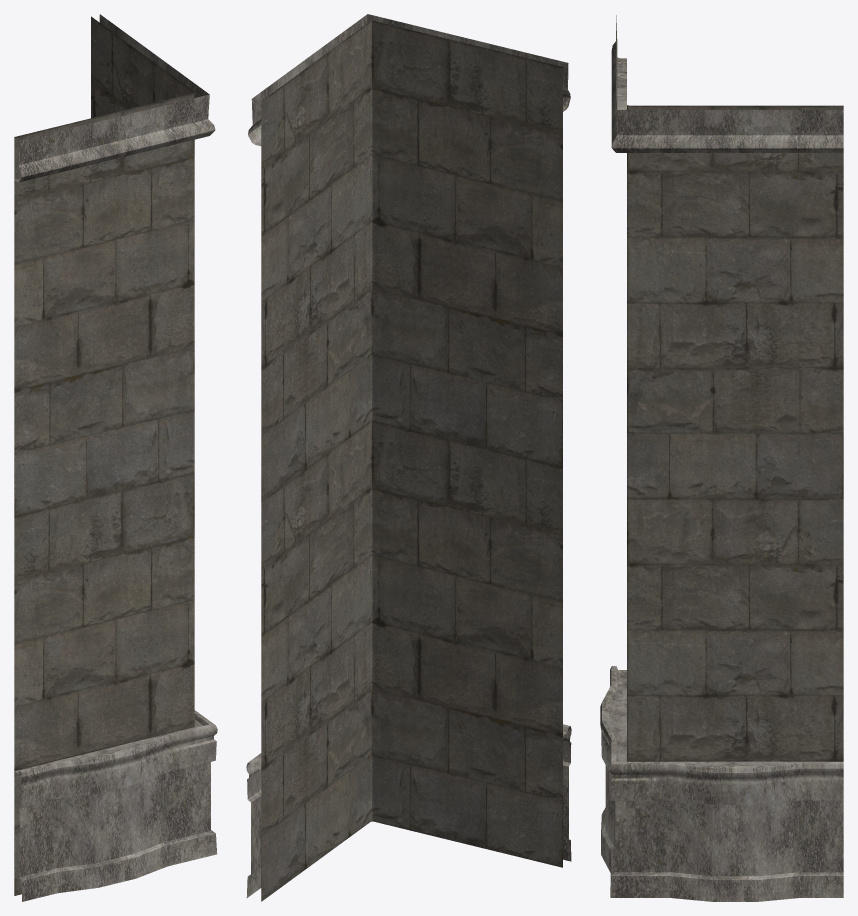
Rendered from SM_Wall_Stone_03.fbx.
3 views of the same model, side by side, from view 1: azimuth 30°, elevation 25°; view 2: azimuth 150°, elevation 25°; view 3: azimuth 270°, elevation 25° (orthographic). The views are drawn at different scales.
Visible parts, largest first — view 1: SM_Wall_Stone_03; view 2: SM_Wall_Stone_03; view 3: SM_Wall_Stone_03.
Part boxes in pixels (<box>): SM_Wall_Stone_03: <box>14,14,217,901</box>; SM_Wall_Stone_03: <box>246,14,571,901</box>; SM_Wall_Stone_03: <box>600,15,843,901</box>.
Size of the model in its own units: 112 by 400 by 112.
